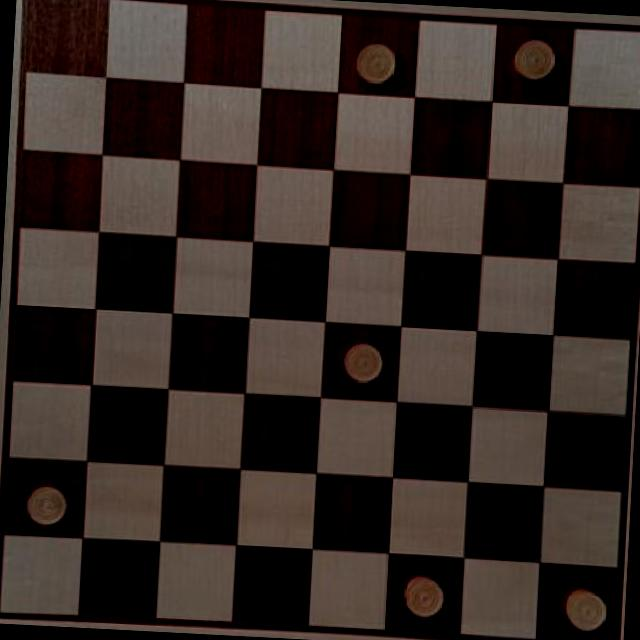BOARD: (0, 0, 640, 640)
white: (398, 564, 452, 624), (558, 580, 610, 634), (354, 34, 402, 90), (506, 33, 556, 86), (20, 479, 68, 531), (344, 339, 384, 384)
